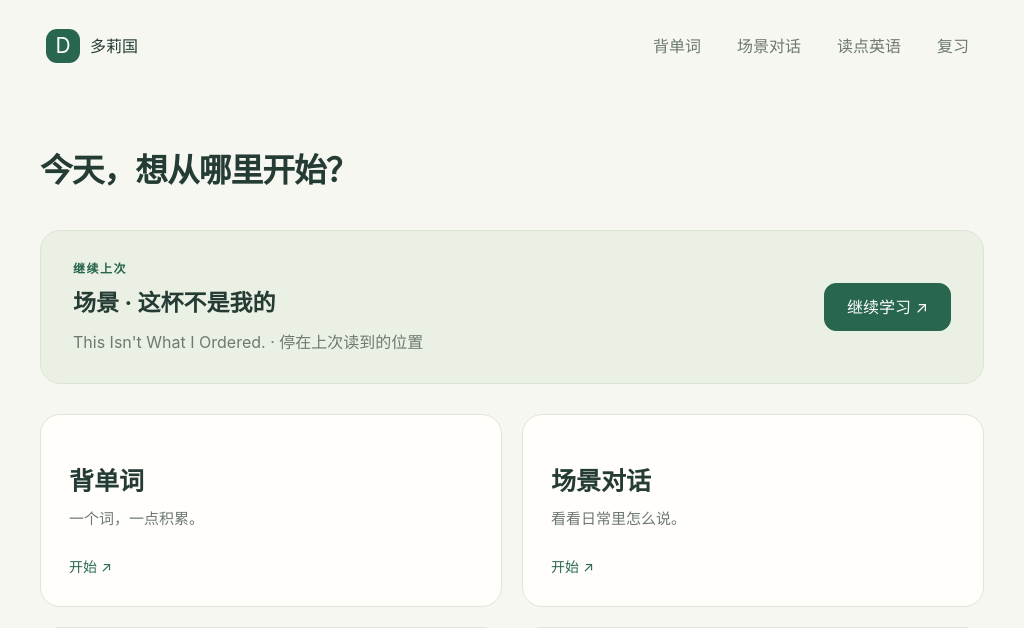
Test: opens later incremental scene scene-wrong-drink from home resume
This screenshot has width=1024, height=628.
What coordinates should you click on to do the following:
click the button "继续学习 ↗"
I would click on:
 (888, 307)
Its box is [824, 283, 951, 332].
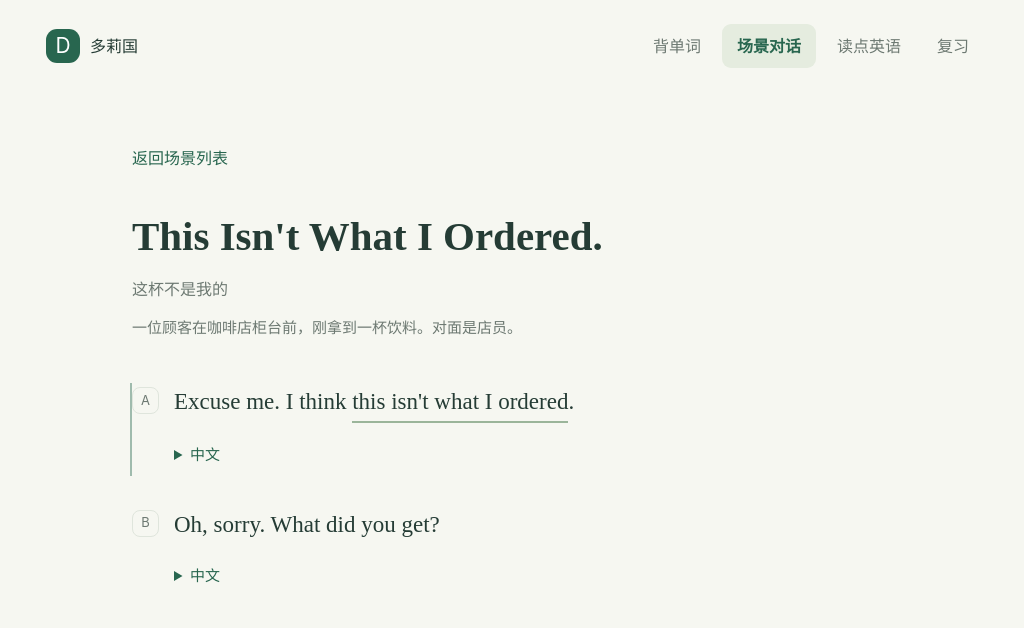
Now the heading "This Isn't What I Ordered." is shown, box [132, 213, 603, 259]
